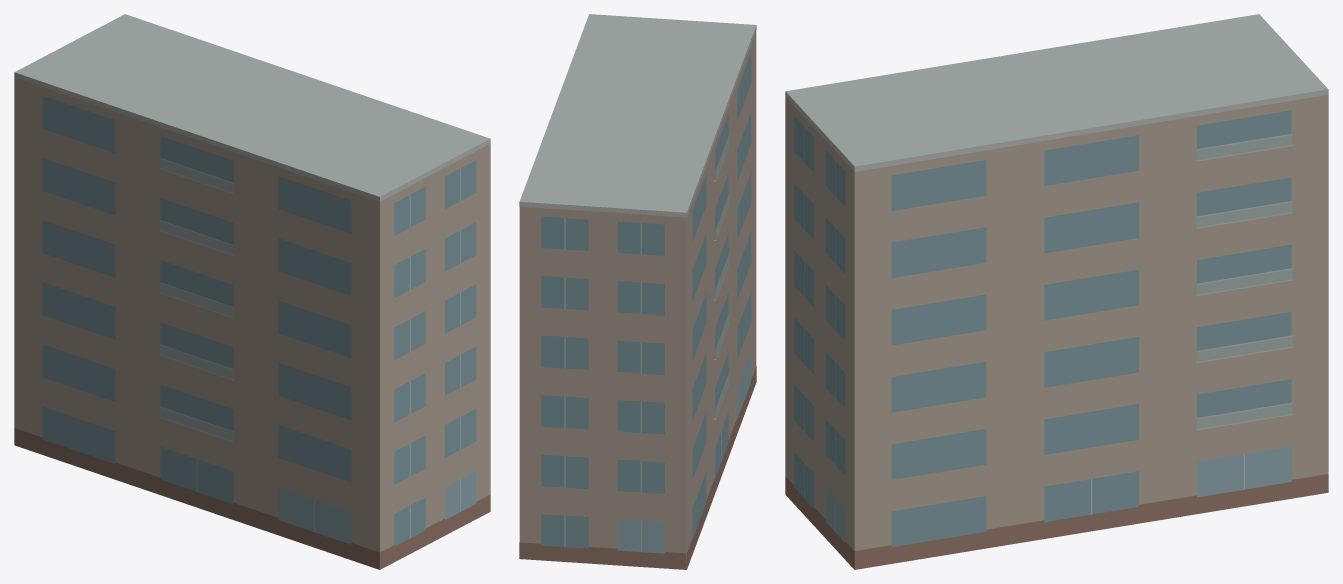
File: survey-upis-32756130.glb
3 views of the same model, side by side, from view 1: azimuth 30°, elevation 25°; view 2: azimuth 150°, elevation 25°; view 3: azimuth 270°, elevation 25° (orthographic). The views are drawn at different scales.
Visible parts, largest first — view 1: survey-upis-32756130.tmp; view 2: survey-upis-32756130.tmp; view 3: survey-upis-32756130.tmp.
Boxes of the visible parts, bbox=[...] form: survey-upis-32756130.tmp: bbox=[14, 14, 490, 569]; survey-upis-32756130.tmp: bbox=[519, 14, 756, 569]; survey-upis-32756130.tmp: bbox=[785, 14, 1328, 569].
Size of the model in its own units: 14.85 by 18.3 by 22.34.
